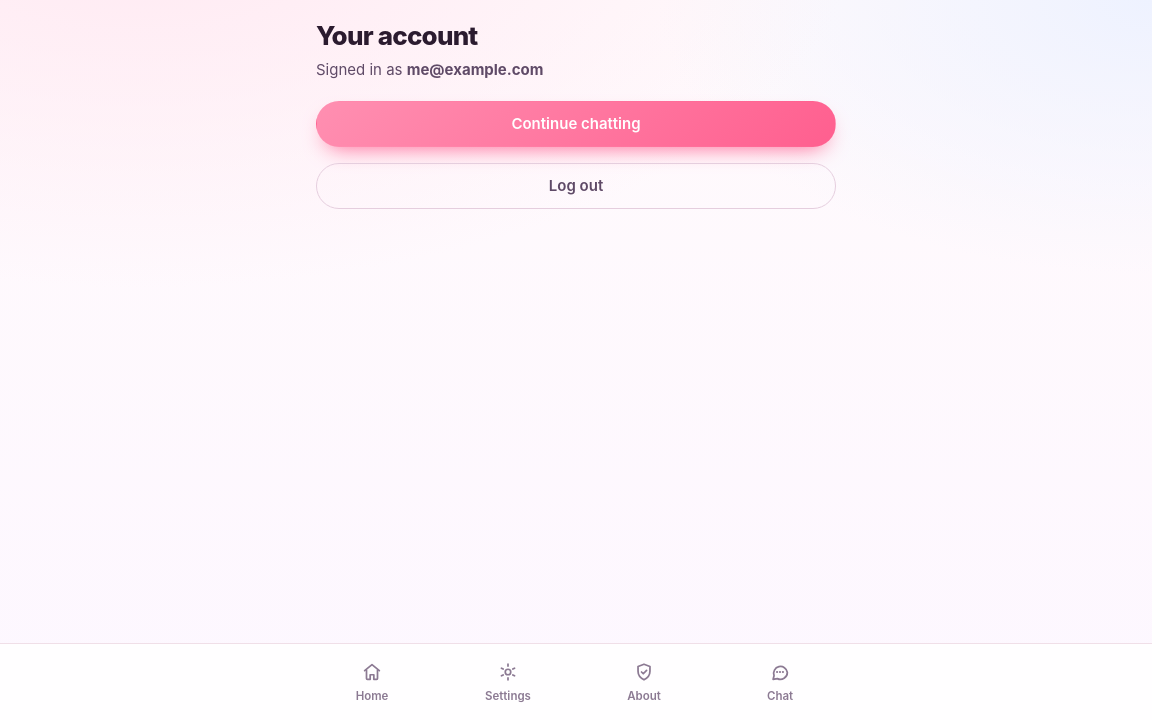
Test: auth › shows the account and logs out
Expected: the text "me@example.com" is shown, [407, 60, 544, 78]
Click the button "Log out" at (576, 186), box [316, 163, 836, 209]
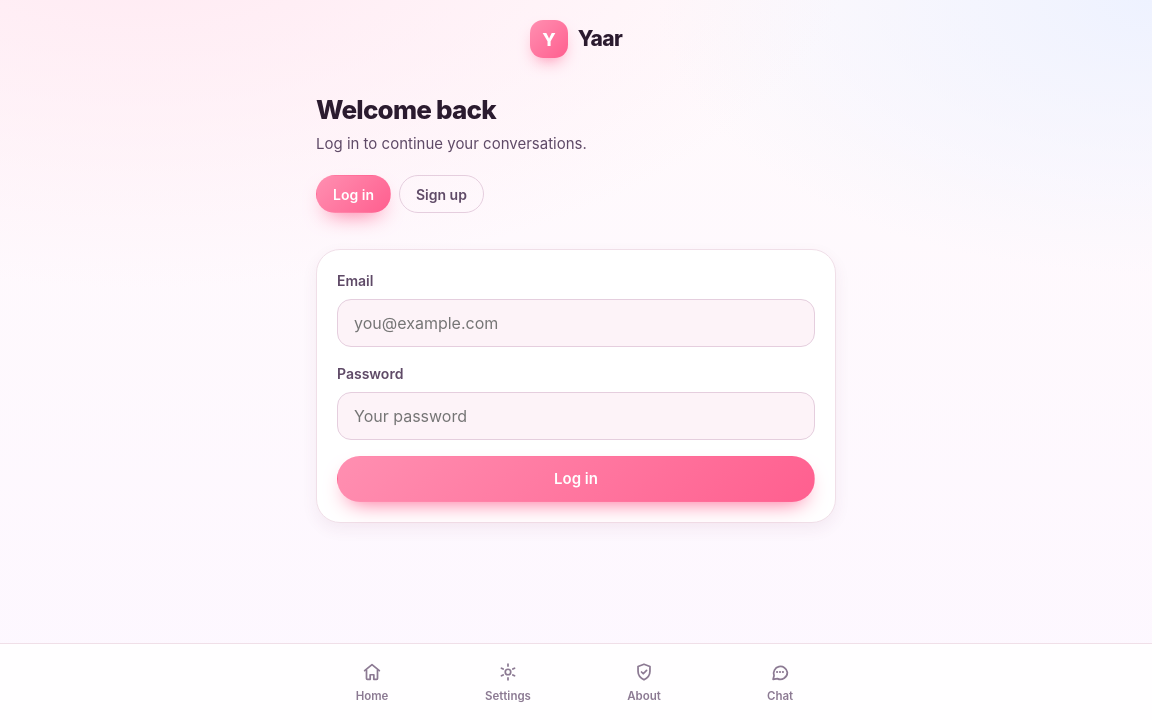
Expected: the heading "Welcome back" is shown, [316, 94, 496, 125]
